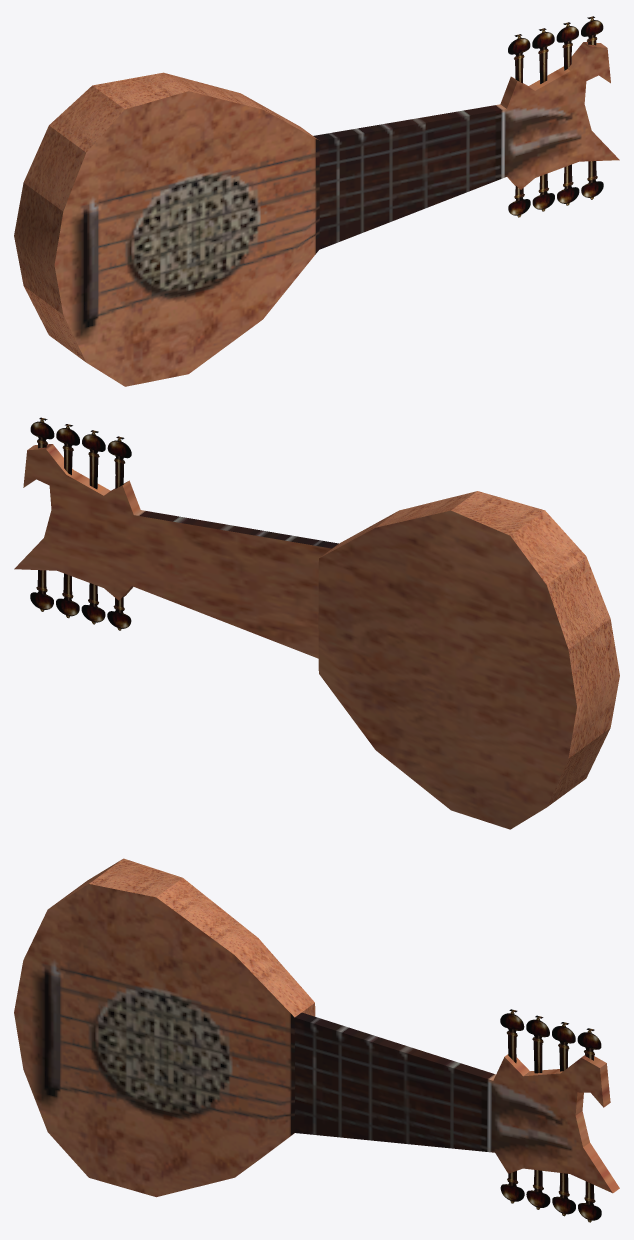
3 views of the same model, one above another, from view 1: azimuth 30°, elevation 25°; view 2: azimuth 150°, elevation 25°; view 3: azimuth 330°, elevation 25° (orthographic). The views are drawn at different scales.
Visible parts, largest first — view 1: it11502; view 2: it11502; view 3: it11502.
Boxes of the visible parts, x1,y1,x2,y2 form: it11502: (14,16,619,386); it11502: (14,417,619,829); it11502: (14,858,619,1222).
Bounding box in the file's own units: 2.5 × 1.19 × 0.3097.
3 materials, 3 textured.
